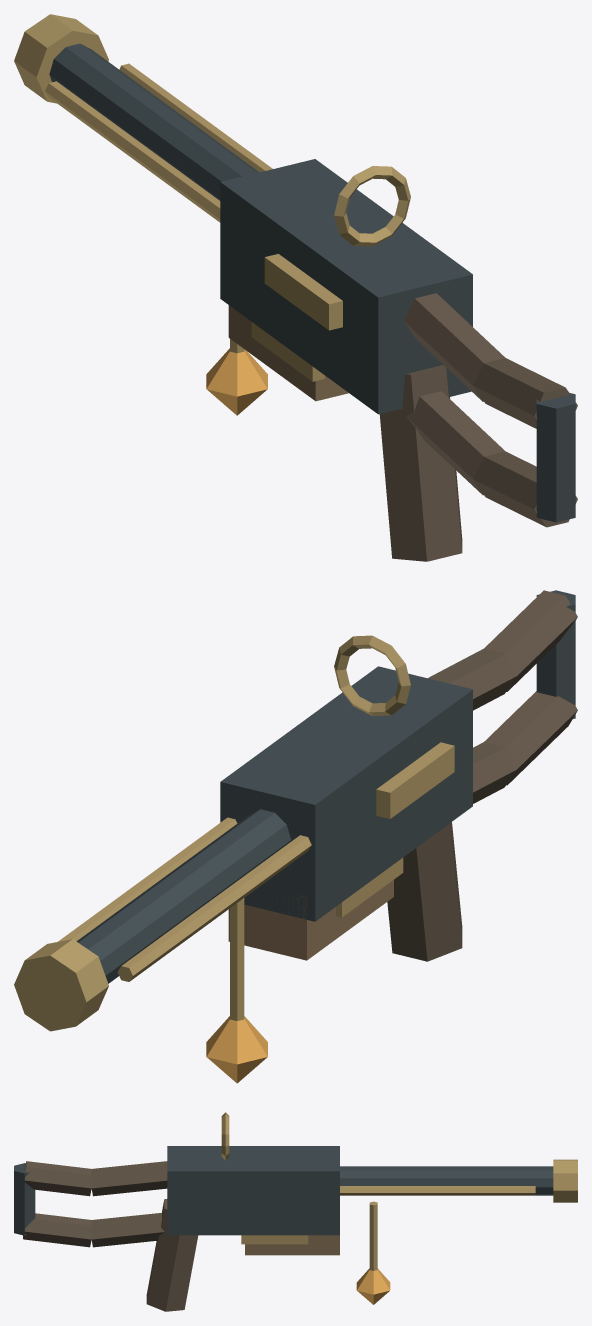
The model's file is Arsenal_PendulumWatch.fbx.
3 views of the same model, one above another, from view 1: azimuth 30°, elevation 25°; view 2: azimuth 150°, elevation 25°; view 3: azimuth 270°, elevation 25° (orthographic). The views are drawn at different scales.
Visible parts, largest first — view 1: Arsenal_PendulumWatch; view 2: Arsenal_PendulumWatch; view 3: Arsenal_PendulumWatch.
Boxes of the visible parts, x1=… form: Arsenal_PendulumWatch: x1=14, y1=14, x2=577, y2=561; Arsenal_PendulumWatch: x1=14, y1=590, x2=577, y2=1083; Arsenal_PendulumWatch: x1=14, y1=1112, x2=577, y2=1311.
Bounding box in the file's own units: 0.1975 × 0.598 × 1.6.
